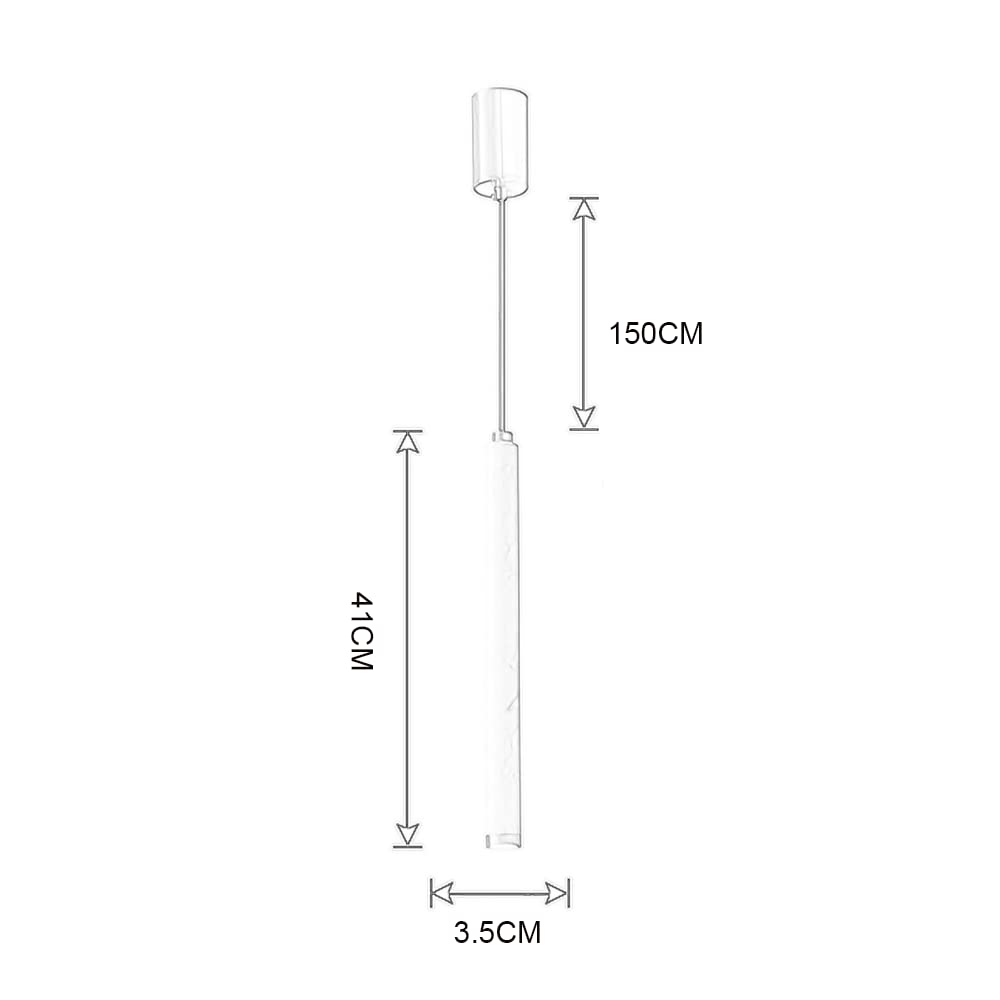150CM: (611, 322, 702, 344)
3.5CM: (455, 921, 540, 943)
